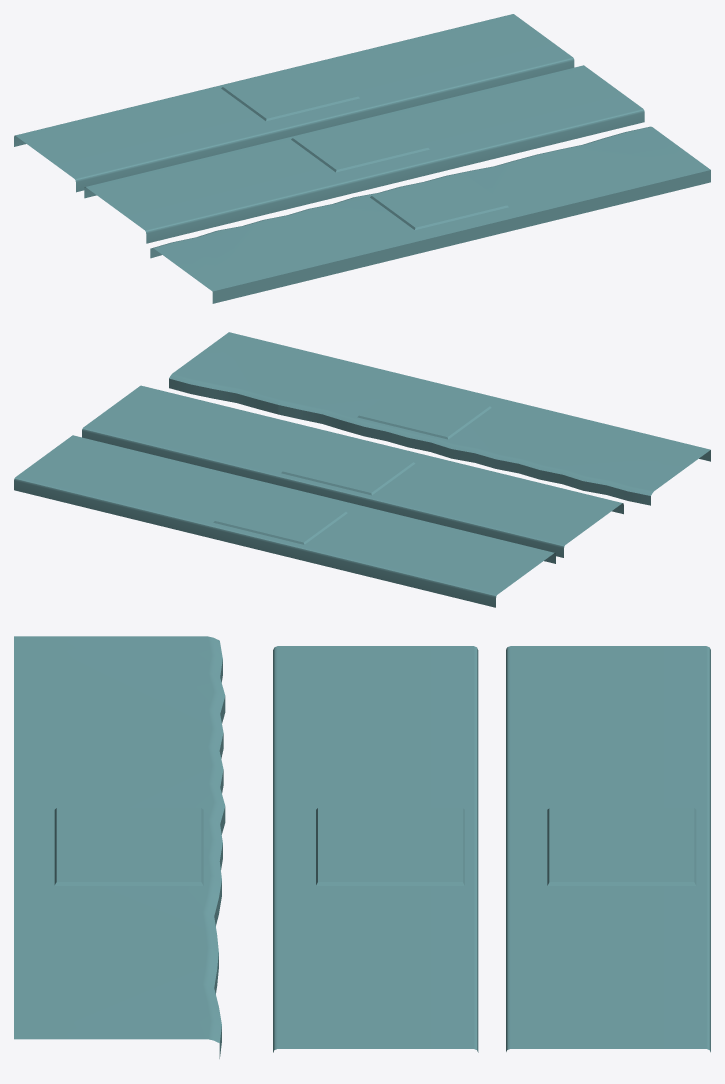
File: SM_TABLES (1).fbx
3 views of the same model, one above another, from view 1: azimuth 30°, elevation 25°; view 2: azimuth 150°, elevation 25°; view 3: azimuth 270°, elevation 25° (orthographic). The views are drawn at different scales.
Parts seen in each view (by area): view 1: SM_TABLE_IA2, SM_TABLE_ROCK2, SM_TABLE_H2; view 2: SM_TABLE_ROCK2, SM_TABLE_H2, SM_TABLE_IA2; view 3: SM_TABLE_ROCK2, SM_TABLE_IA2, SM_TABLE_H2.
Part boxes in pixels (x1,y1,x2,y2): SM_TABLE_IA2: (84, 65, 644, 243); SM_TABLE_ROCK2: (150, 126, 710, 303); SM_TABLE_H2: (14, 14, 574, 192); SM_TABLE_ROCK2: (169, 332, 710, 505); SM_TABLE_H2: (14, 435, 555, 607); SM_TABLE_IA2: (82, 385, 623, 557); SM_TABLE_ROCK2: (14, 636, 225, 1058); SM_TABLE_IA2: (273, 646, 478, 1052); SM_TABLE_H2: (506, 646, 710, 1052).
Size of the model in its own units: 371 by 9.82 by 265.
